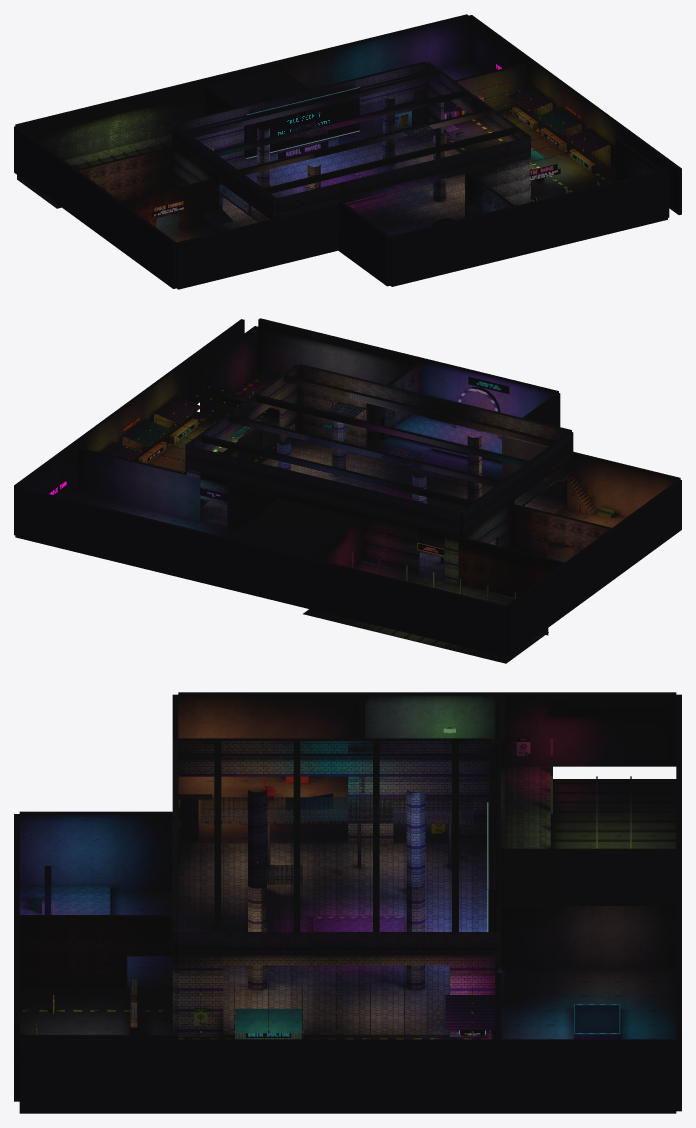
File: haven.glb
3 renders of one model, top to bottom at view 1: azimuth 30°, elevation 25°; view 2: azimuth 150°, elevation 25°; view 3: azimuth 270°, elevation 25°, orthographic. The views are drawn at different scales.
Visible parts, largest first — view 1: rebel_haven_wall_conc, rebel_haven_wall_tile, rebel_haven_wall_tile_plain, rebel_haven_metal, rebel_haven_floor_tile, rebel_haven_wall_brick, rebel_haven_floor_asph, rebel_haven_screen, rebel_haven_floor_conc, rebel_haven_tarp_purple, rebel_haven_dark, rebel_haven_grate (+2 smaller); view 2: rebel_haven_wall_conc, rebel_haven_wall_tile, rebel_haven_metal, rebel_haven_wall_brick, rebel_haven_floor_tile, rebel_haven_wall_tile_plain, rebel_haven_floor_conc, rebel_haven_floor_asph, rebel_haven_plate, rebel_haven_grate, rebel_haven_tarp_purple, rebel_haven_tarp_teal (+2 smaller); view 3: rebel_haven_wall_conc, rebel_haven_wall_tile, rebel_haven_floor_tile, rebel_haven_floor_conc, rebel_haven_wall_brick, rebel_haven_metal, rebel_haven_floor_asph, rebel_haven_grate, rebel_haven_plate, rebel_haven_track, rebel_haven_pipe, rebel_haven_tarp_purple (+6 smaller).
Part boxes in pixels (bbox=[...]): rebel_haven_wall_conc: bbox=[14, 14, 681, 289]; rebel_haven_wall_tile: bbox=[172, 61, 530, 219]; rebel_haven_wall_tile_plain: bbox=[17, 87, 529, 218]; rebel_haven_metal: bbox=[187, 71, 611, 222]; rebel_haven_floor_tile: bbox=[188, 130, 464, 236]; rebel_haven_wall_brick: bbox=[77, 146, 514, 230]; rebel_haven_floor_asph: bbox=[444, 105, 615, 202]; rebel_haven_screen: bbox=[253, 91, 353, 154]; rebel_haven_floor_conc: bbox=[17, 61, 483, 242]; rebel_haven_tarp_purple: bbox=[202, 85, 610, 226]; rebel_haven_dark: bbox=[244, 81, 601, 161]; rebel_haven_grate: bbox=[222, 122, 439, 221]; rebel_haven_wall_conc: bbox=[14, 318, 681, 656]; rebel_haven_wall_tile: bbox=[185, 364, 573, 583]; rebel_haven_metal: bbox=[121, 375, 596, 563]; rebel_haven_wall_brick: bbox=[363, 362, 611, 597]; rebel_haven_floor_tile: bbox=[202, 438, 566, 605]; rebel_haven_wall_tile_plain: bbox=[298, 364, 571, 448]; rebel_haven_floor_conc: bbox=[69, 435, 627, 663]; rebel_haven_floor_asph: bbox=[131, 373, 383, 504]; rebel_haven_plate: bbox=[395, 414, 595, 511]; rebel_haven_grate: bbox=[323, 402, 561, 505]; rebel_haven_tarp_purple: bbox=[100, 396, 202, 472]; rebel_haven_tarp_teal: bbox=[122, 418, 261, 446]; rebel_haven_wall_conc: bbox=[14, 692, 681, 1113]; rebel_haven_wall_tile: bbox=[178, 738, 500, 1036]; rebel_haven_floor_tile: bbox=[178, 766, 550, 1034]; rebel_haven_floor_conc: bbox=[110, 776, 676, 1039]; rebel_haven_wall_brick: bbox=[19, 700, 500, 988]; rebel_haven_metal: bbox=[42, 741, 493, 1039]; rebel_haven_floor_asph: bbox=[19, 986, 495, 1039]; rebel_haven_grate: bbox=[200, 797, 472, 884]; rebel_haven_plate: bbox=[19, 794, 403, 931]; rebel_haven_track: bbox=[553, 781, 676, 841]; rebel_haven_pipe: bbox=[178, 754, 495, 931]; rebel_haven_tarp_purple: bbox=[300, 793, 495, 1030].
Bounding box in the file's own units: 73 × 11.6 × 59.
71 materials, 71 textured.
